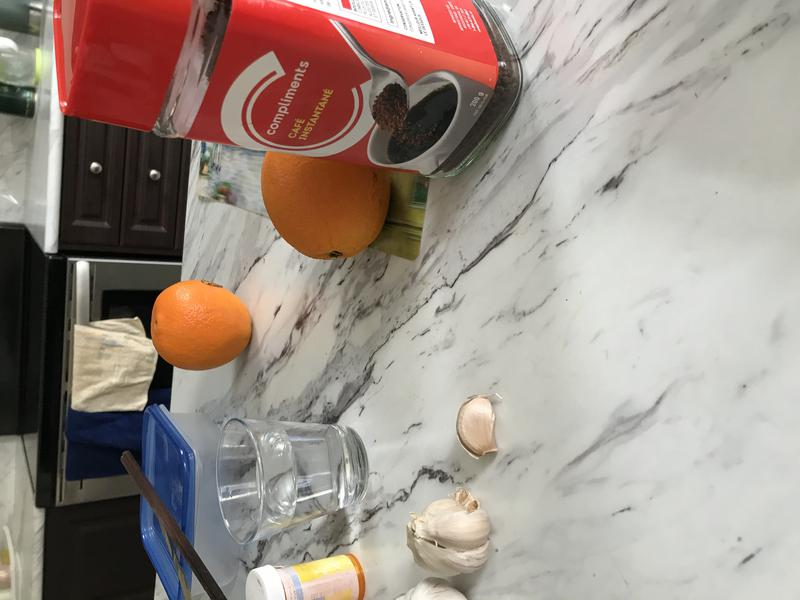garlic: (399, 486, 508, 584), (448, 390, 508, 465)
orange: (247, 133, 399, 268), (145, 274, 260, 375)
